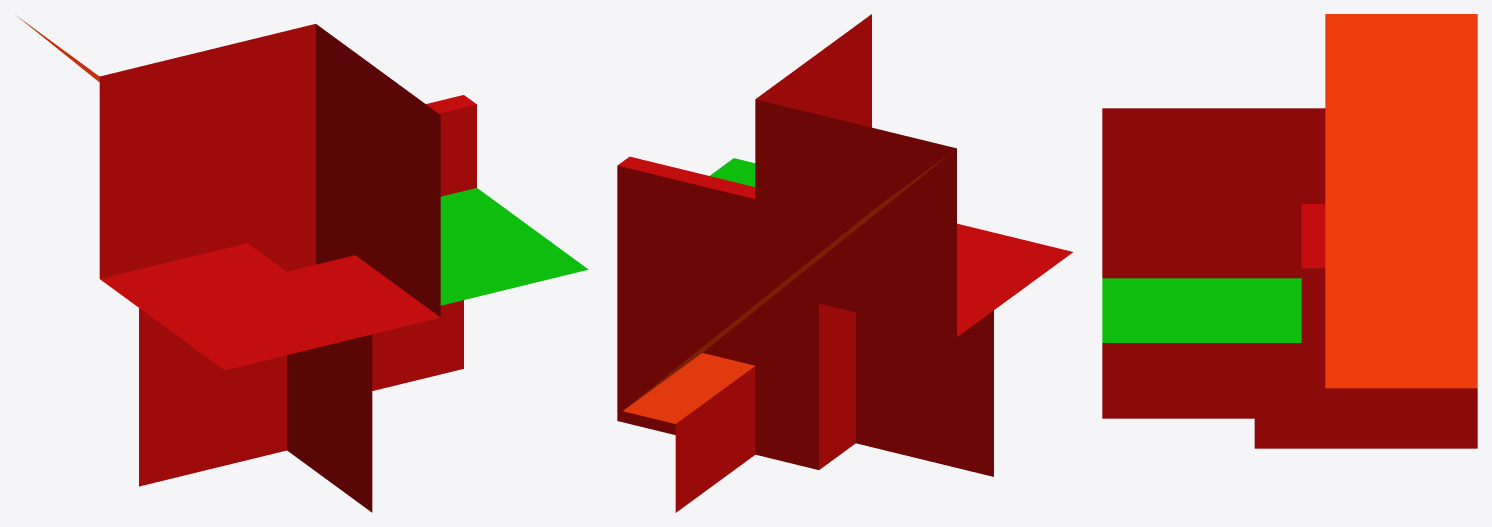
The picture shows the model from 3 angles, left to right: view 1: azimuth 30°, elevation 25°; view 2: azimuth 150°, elevation 25°; view 3: azimuth 270°, elevation 25°; orthographic projection. The views are drawn at different scales.
Parts seen in each view (by area): view 1: None_E_W_E_E_S_E_E_A_None; view 2: None_E_W_E_E_S_E_E_A_None; view 3: None_E_W_E_E_S_E_E_A_None.
Part boxes in pixels (<box>): None_E_W_E_E_S_E_E_A_None: <box>17,16,588,512</box>; None_E_W_E_E_S_E_E_A_None: <box>617,14,1072,512</box>; None_E_W_E_E_S_E_E_A_None: <box>1102,14,1477,448</box>.
Bounding box in the file's own units: 100 × 100 × 100.
